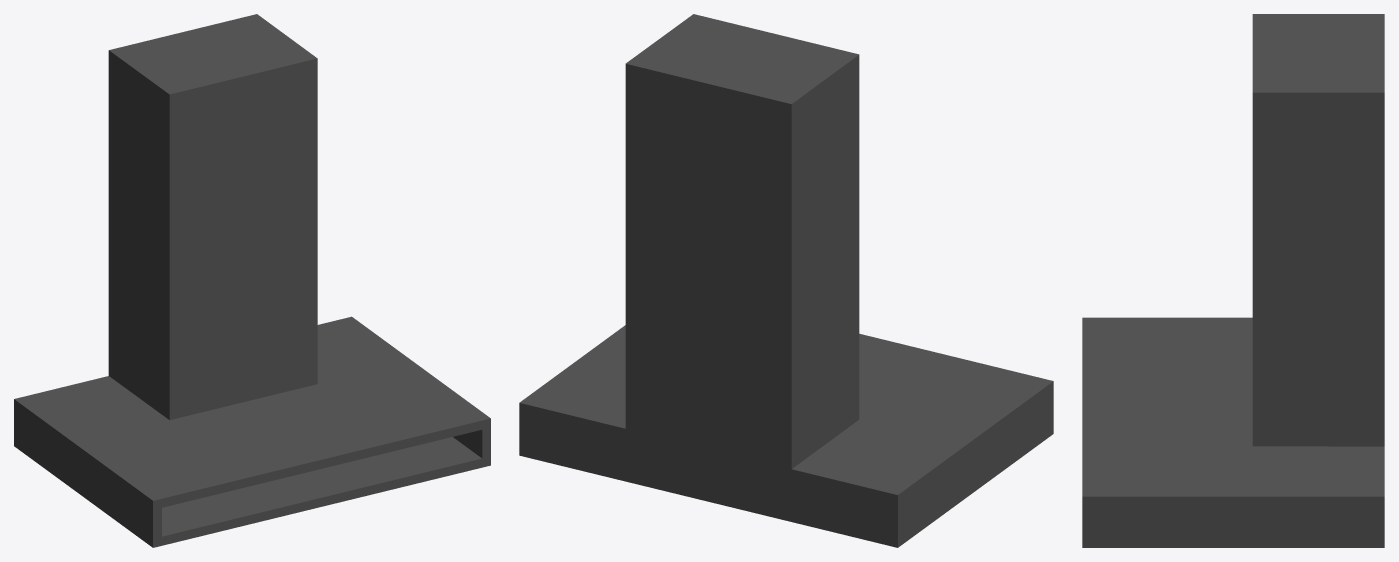
The model's file is Hood2_C1_01.fbx.
3 renders of one model, left to right at view 1: azimuth 30°, elevation 25°; view 2: azimuth 150°, elevation 25°; view 3: azimuth 270°, elevation 25°, orthographic. The views are drawn at different scales.
Parts seen in each view (by area): view 1: Hood2_C1_01; view 2: Hood2_C1_01; view 3: Hood2_C1_01.
Part boxes in pixels (x1,y1,x2,y2): Hood2_C1_01: (14, 14, 490, 547); Hood2_C1_01: (519, 14, 1053, 547); Hood2_C1_01: (1082, 14, 1384, 547).
Size of the model in its own units: 60 by 63.56 by 42.78.
